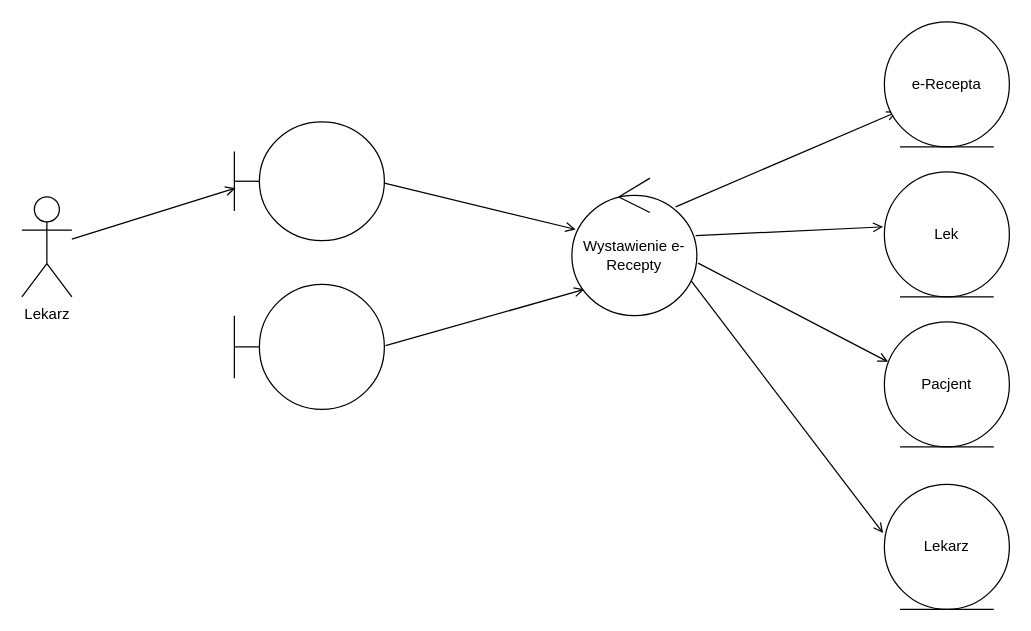
Some shapes in this 1031 by 631 pixel diagram are drawn without their labels. The box of each missing label's shape, as (x1, y1, x2, y2) in pixels:
API_P1: (233, 283, 384, 409)
Formularz e-Recepty: (233, 121, 384, 241)
